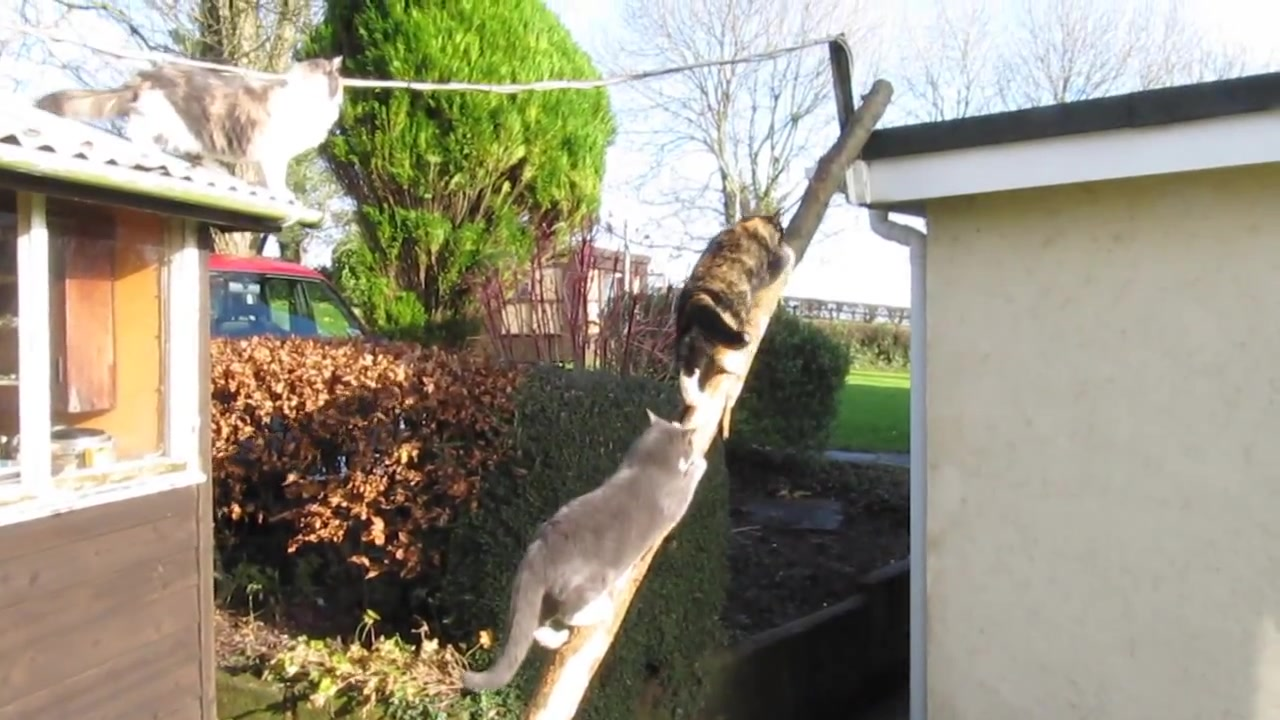cat: (672, 210, 792, 410)
